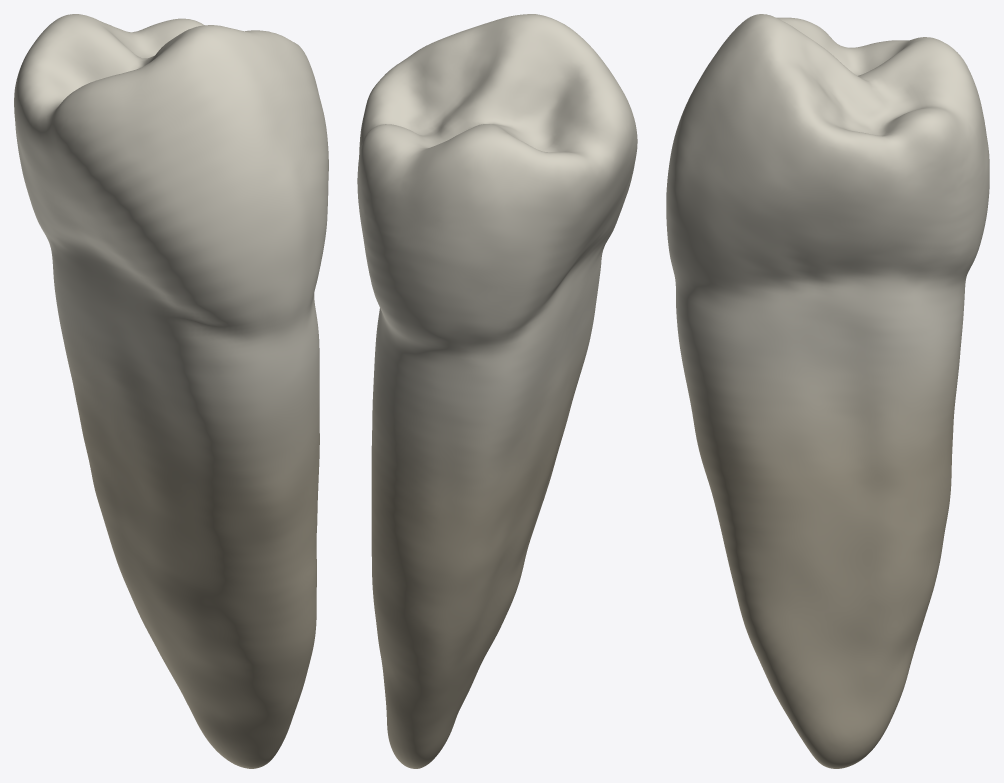
3 renders of one model, left to right at view 1: azimuth 30°, elevation 25°; view 2: azimuth 150°, elevation 25°; view 3: azimuth 270°, elevation 25°, orthographic. The views are drawn at different scales.
Visible parts, largest first — view 1: Tooth_35_0; view 2: Tooth_35_0; view 3: Tooth_35_0.
Boxes of the visible parts, <box> form: Tooth_35_0: <box>14,14,328,768</box>; Tooth_35_0: <box>357,14,637,768</box>; Tooth_35_0: <box>666,14,989,768</box>.
Bounding box in the file's own units: 0.95 × 2.78 × 1.15.
